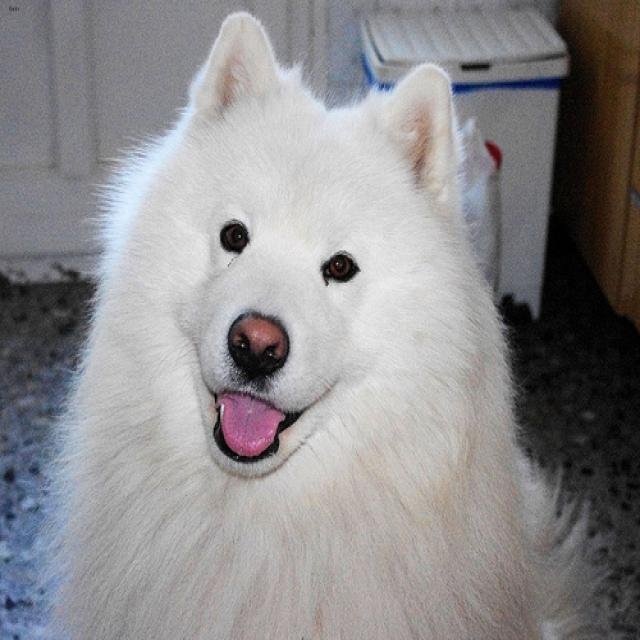dog-samoyed: (31, 3, 617, 637)
